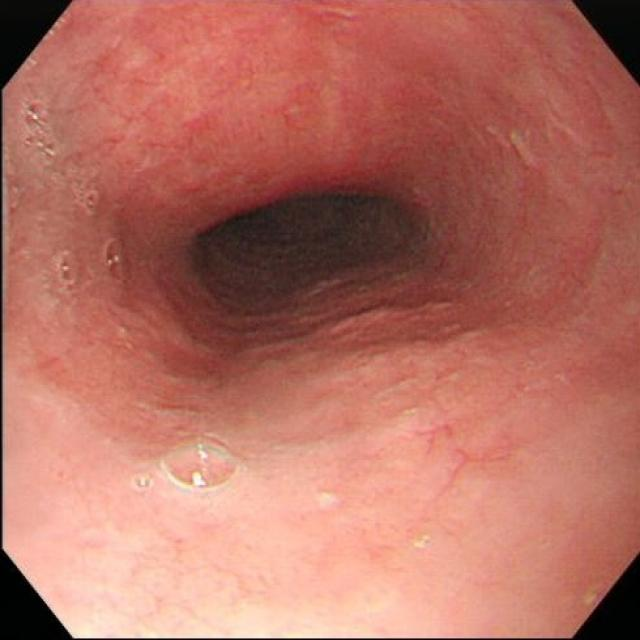E: (187, 184, 428, 308)
T: (18, 92, 65, 168), (187, 444, 247, 500), (51, 244, 86, 288), (70, 173, 103, 219), (101, 236, 131, 284), (127, 466, 155, 497)
